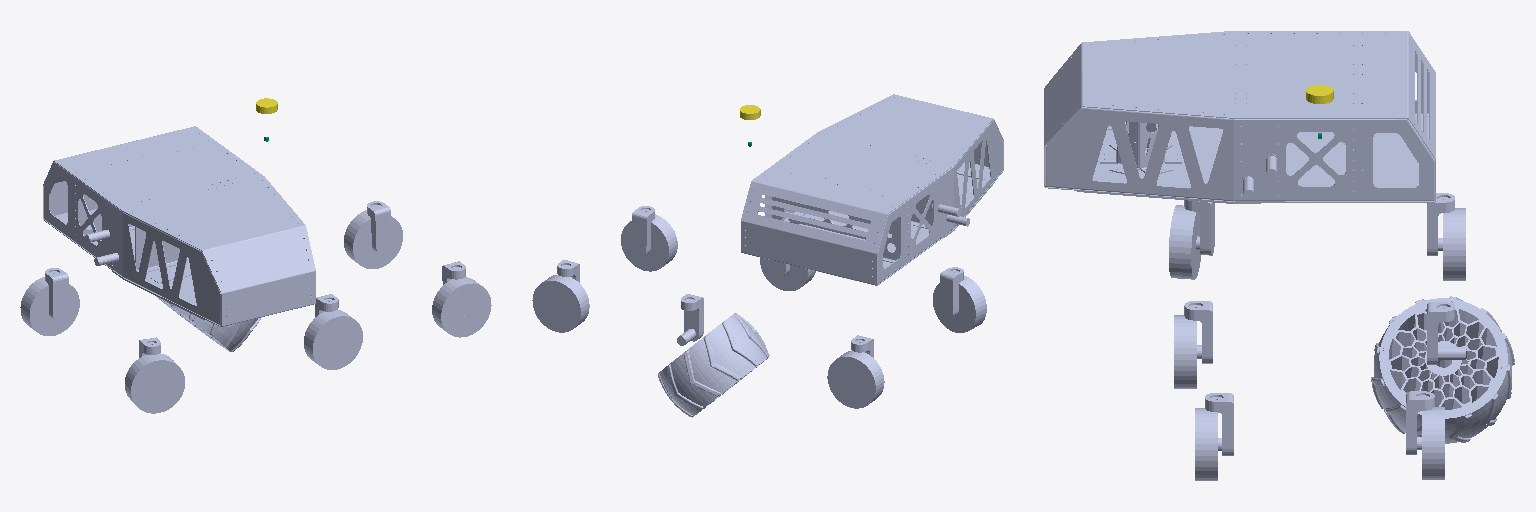
URDF robot description (drive):
<?xml version="1.0" encoding="utf-8"?>
<robot
  name="drive">

  <link name="dummy_link" />
  <joint name="dummy_joint" type="fixed">
    <parent link="dummy_link"/>
    <child link="base_link"/>
  </joint>

  <link
    name="base_link">
    <inertial>
      <origin
        xyz="-0.00633939315398788 0.0616933491123311 0.000102079258242889"
        rpy="0 0 0" />
      <mass
        value="12.6951056650873" />
      <inertia
        ixx="0.261385831219974"
        ixy="0.00262186748821054"
        ixz="1.30796658267419E-16"
        iyy="0.843984730617937"
        iyz="-7.51563399887942E-17"
        izz="0.664911927857951" />
    </inertial>
    <visual>
      <origin
        xyz="0 0 0"
        rpy="0 0 0" />
      <geometry>
        <mesh
          filename="package://drive/meshes/base.STL" />
      </geometry>
      <material
        name="">
        <color
          rgba="0.792156862745098 0.819607843137255 0.933333333333333 1" />
      </material>
    </visual>
    <collision>
      <origin
        xyz="0 0 0"
        rpy="0 0 0" />
      <geometry>
        <mesh
          filename="package://drive/meshes/base.STL" />
      </geometry>
    </collision>
  </link>

<!-- IMU Sensor -->
  <link name="imu_link">
    <inertial>
      <mass value="0.01"/>
      <origin xyz="0 0 0" rpy="0 0 0"/>
      <inertia ixx="1e-5" ixy="0.0" ixz="0.0" iyy="1e-5" iyz="0.0" izz="1e-5"/>
    </inertial>
    <visual>
      <geometry>
        <box size="0.01 0.01 0.01"/>
      </geometry>
    </visual>
    <collision>
      <geometry>
        <box size="0.01 0.01 0.01"/>
      </geometry>
    </collision>
  </link>
  <joint name="imu_joint" type="fixed">
    <parent link="base_link"/>
    <child link="imu_link"/>
    <origin xyz="0 0 0.1" rpy="0 0 0"/>
  </joint>
  <gazebo reference="imu_link">
    <sensor name="imu_sensor" type="imu">
      <pose>0 0 0 0 0 0</pose>
      <update_rate>50</update_rate>
      <always_on>true</always_on>
      <visualize>true</visualize>
      <topic>/imu/data</topic>
      <imu>
        <noise>
          <type>gaussian</type>
          <mean>0.0</mean>
          <stddev>0.0002</stddev>
        </noise>
      </imu>
      <plugin filename="libignition-gazebo-imu-system.so"
        name="ignition::gazebo::systems::Imu">
        <topic>/imu</topic>
      </plugin>
    </sensor>
  </gazebo>

<!-- LiDAR Sensor -->
<link name="lidar_link">
    <inertial>
      <mass value="0.01"/>
      <origin xyz="0 0 0" rpy="0 0 0"/>
      <inertia ixx="1e-5" ixy="0.0" ixz="0.0" iyy="1e-5" iyz="0.0" izz="1e-5"/>
    </inertial>
    <visual>
      <geometry>
        <cylinder radius="0.03" length="0.02"/>
      </geometry>
    </visual>
    <collision>
      <geometry>
        <cylinder radius="0.03" length="0.02"/>
      </geometry>
    </collision>
  </link>
  <joint name="lidar_joint" type="fixed">
    <parent link="base_link"/>
    <child link="lidar_link"/>
    <origin xyz="0 0 0.2" rpy="0 0 0"/>
  </joint>
  <gazebo reference="lidar_link">
    <sensor name='lidar' type='gpu_lidar'>
      <pose>0 0 0 0 0 0</pose>
      <topic>/lidar</topic>
      <update_rate>10</update_rate>
      <ray>
        <scan>
          <horizontal>
            <samples>640</samples>
            <resolution>1</resolution>
            <min_angle>-1.396263</min_angle>
            <max_angle>1.396263</max_angle>
          </horizontal>
          <vertical>
            <samples>1</samples>
            <resolution>0.01</resolution>
            <min_angle>0</min_angle>
            <max_angle>0</max_angle>
          </vertical>
        </scan>
        <range>
          <min>0.08</min>
          <max>10.0</max>
          <resolution>0.01</resolution>
        </range>
      </ray>
      <always_on>1</always_on>
      <visualize>true</visualize>
    </sensor>
  </gazebo>

<!-- Wheel and Suspension Joints -->

  <link
    name="rotate_1">
    <inertial>
      <origin
        xyz="0.0129852901860572 -3.33066907387547E-16 0.0662521834916939"
        rpy="0 0 0" />
      <mass
        value="0.245029467362339" />
      <inertia
        ixx="0.000481938208354005"
        ixy="6.09863722023096E-20"
        ixz="2.30185129071682E-05"
        iyy="0.000539038649100082"
        iyz="2.21738135307142E-18"
        izz="0.000142438687060036" />
    </inertial>
    <visual>
      <origin
        xyz="0 0 0"
        rpy="0 0 0" />
      <geometry>
        <mesh
          filename="package://drive/meshes/rotate_1.STL" />
      </geometry>
      <material
        name="">
        <color
          rgba="0.792156862745098 0.819607843137255 0.933333333333333 1" />
      </material>
    </visual>
    <collision>
      <origin
        xyz="0 0 0"
        rpy="0 0 0" />
      <geometry>
        <mesh
          filename="package://drive/meshes/rotate_1.STL" />
      </geometry>
    </collision>
  </link>
  <joint
    name="joint_rotate_1"
    type="continuous">
    <origin
      xyz="-0.52014 -0.27 -0.28767"
      rpy="3.1416 0 1.4079" />
    <parent
      link="base_link" />
    <child
      link="rotate_1" />
    <axis
      xyz="0 0 1" />
    <dynamics damping="0.5" />
  </joint>
  <link
    name="wheel_1">
    <inertial>
      <origin
        xyz="1.66533453693773E-16 -0.022500000000005 -2.27595720048157E-15"
        rpy="0 0 0" />
      <mass
        value="0.969966731795849" />
      <inertia
        ixx="0.00180858380199434"
        ixy="2.43945488809238E-19"
        ixz="-8.30092288309214E-20"
        iyy="0.00321301479907375"
        iyz="-5.2583805365547E-18"
        izz="0.00180858380199434" />
    </inertial>
    <visual>
      <origin
        xyz="0 0 0"
        rpy="0 0 0" />
      <geometry>
        <mesh
          filename="package://drive/meshes/wheel_1.STL" />
      </geometry>
      <material
        name="">
        <color
          rgba="0.792156862745098 0.819607843137255 0.933333333333333 1" />
      </material>
    </visual>
    <collision>
      <origin
        xyz="0 0 0"
        rpy="0 0 0" />
      <geometry>
        <mesh
          filename="package://drive/meshes/wheel_1.STL" />
      </geometry>
      <surface>
    <friction>
      <ode>
        <mu>1.0</mu>               <!-- Static friction -->
        <mu2>1.0</mu2>             <!-- Torsional friction -->
      </ode>
    </friction>
  </surface>
    </collision>
  </link>
  <joint
    name="joint_wheel_1"
    type="continuous">
    <origin
      xyz="0 0 0.1125"
      rpy="3.1416 1.3751 1.5708" />
    <parent
      link="rotate_1" />
    <child
      link="wheel_1" />
    <axis
      xyz="0 1 0" />
  </joint>
  <link
    name="rotate_2">
    <inertial>
      <origin
        xyz="0.0129852901860573 -2.77555756156289E-17 0.0662521834916938"
        rpy="0 0 0" />
      <mass
        value="0.245029467362339" />
      <inertia
        ixx="0.000481938208354005"
        ixy="1.73993035967218E-20"
        ixz="2.30185129071684E-05"
        iyy="0.000539038649100083"
        iyz="6.1814902161024E-20"
        izz="0.000142438687060036" />
    </inertial>
    <visual>
      <origin
        xyz="0 0 0"
        rpy="0 0 0" />
      <geometry>
        <mesh
          filename="package://drive/meshes/rotate_2.STL" />
      </geometry>
      <material
        name="">
        <color
          rgba="0.792156862745098 0.819607843137255 0.933333333333333 1" />
      </material>
    </visual>
    <collision>
      <origin
        xyz="0 0 0"
        rpy="0 0 0" />
      <geometry>
        <mesh
          filename="package://drive/meshes/rotate_2.STL" />
      </geometry>
    </collision>
  </link>
  <joint
    name="joint_rotate_2"
    type="continuous">
    <origin
      xyz="0.042287 -0.27 -0.28767"
      rpy="3.1416 0 1.5708" />
    <parent
      link="base_link" />
    <child
      link="rotate_2" />
    <axis
      xyz="0 0 1" />
    <dynamics damping="0.5" />
  </joint>
  <link
    name="wheel_2">
    <inertial>
      <origin
        xyz="6.10622663543836E-16 -0.0224999999999977 2.33146835171283E-15"
        rpy="0 0 0" />
      <mass
        value="0.969966731795848" />
      <inertia
        ixx="0.00180858380199434"
        ixy="8.12367448979842E-20"
        ixz="5.42101086242752E-20"
        iyy="0.00321301479907375"
        iyz="-3.89466907254394E-21"
        izz="0.00180858380199434" />
    </inertial>
    <visual>
      <origin
        xyz="0 0 0"
        rpy="0 0 0" />
      <geometry>
        <mesh
          filename="package://drive/meshes/wheel_2.STL" />
      </geometry>
      <material
        name="">
        <color
          rgba="0.792156862745098 0.819607843137255 0.933333333333333 1" />
      </material>
    </visual>
    <collision>
      <origin
        xyz="0 0 0"
        rpy="0 0 0" />
      <geometry>
        <mesh
          filename="package://drive/meshes/wheel_2.STL" />
      </geometry>
      <surface>
    <friction>
      <ode>
        <mu>1.0</mu>               <!-- Static friction -->
        <mu2>1.0</mu2>             <!-- Torsional friction -->
      </ode>
    </friction>
  </surface>
    </collision>
  </link>
  <joint
    name="joint_wheel_2"
    type="continuous">
    <origin
      xyz="0 0 0.1125"
      rpy="0 0.1965 -1.5708" />
    <parent
      link="rotate_2" />
    <child
      link="wheel_2" />
    <axis
      xyz="0 1 0" />
  </joint>
  <link
    name="rotate_3">
    <inertial>
      <origin
        xyz="0.0129852911708224 0 0.0661603898916331"
        rpy="0 0 0" />
      <mass
        value="0.245029467362339" />
      <inertia
        ixx="0.000481938209039244"
        ixy="-1.27054956729403E-20"
        ixz="2.30185078538831E-05"
        iyy="0.000539038649100082"
        iyz="-1.96935160142067E-19"
        izz="0.000142438686374797" />
    </inertial>
    <visual>
      <origin
        xyz="0 0 0"
        rpy="0 0 0" />
      <geometry>
        <mesh
          filename="package://drive/meshes/rotate_3.STL" />
      </geometry>
      <material
        name="">
        <color
          rgba="0.792156862745098 0.819607843137255 0.933333333333333 1" />
      </material>
    </visual>
    <collision>
      <origin
        xyz="0 0 0"
        rpy="0 0 0" />
      <geometry>
        <mesh
          filename="package://drive/meshes/rotate_3.STL" />
      </geometry>
    </collision>
  </link>
  <joint
    name="joint_rotate_3"
    type="continuous">
    <origin
      xyz="0.47299 -0.225 -0.30799"
      rpy="3.1158 0 1.5708" />
    <parent
      link="base_link" />
    <child
      link="rotate_3" />
    <axis
      xyz="0 0 1" />
    <dynamics damping="0.5" />
  </joint>
  <link
    name="wheel_3">
    <inertial>
      <origin
        xyz="-1.55431223447522E-15 0.0224999999999991 1.55431223447522E-15"
        rpy="0 0 0" />
      <mass
        value="0.969966731795848" />
      <inertia
        ixx="0.00180858380199434"
        ixy="-2.26611196637238E-19"
        ixz="0"
        iyy="0.00321301479907375"
        iyz="-1.86470415833723E-19"
        izz="0.00180858380199434" />
    </inertial>
    <visual>
      <origin
        xyz="0 0 0"
        rpy="0 0 0" />
      <geometry>
        <mesh
          filename="package://drive/meshes/wheel_3.STL" />
      </geometry>
      <material
        name="">
        <color
          rgba="0.792156862745098 0.819607843137255 0.933333333333333 1" />
      </material>
    </visual>
    <collision>
      <origin
        xyz="0 0 0"
        rpy="0 0 0" />
      <geometry>
        <mesh
          filename="package://drive/meshes/wheel_3.STL" />
      </geometry>
      <surface>
    <friction>
      <ode>
        <mu>1.0</mu>               <!-- Static friction -->
        <mu2>1.0</mu2>             <!-- Torsional friction -->
      </ode>
    </friction>
  </surface>
    </collision>
  </link>
  <joint
    name="joint_wheel_3"
    type="continuous">
    <origin
      xyz="0 0 0.11241"
      rpy="0 0.67825 1.5708" />
    <parent
      link="rotate_3" />
    <child
      link="wheel_3" />
    <axis
      xyz="0 1 0" />
  </joint>
  <link
    name="rotate_4">
    <inertial>
      <origin
        xyz="0.0129852901860573 0 0.066252183491694"
        rpy="0 0 0" />
      <mass
        value="0.245029467362338" />
      <inertia
        ixx="0.000481938208354005"
        ixy="-2.55972847915331E-20"
        ixz="2.30185129071678E-05"
        iyy="0.000539038649100082"
        iyz="1.97509895186831E-20"
        izz="0.000142438687060036" />
    </inertial>
    <visual>
      <origin
        xyz="0 0 0"
        rpy="0 0 0" />
      <geometry>
        <mesh
          filename="package://drive/meshes/rotate_4.STL" />
      </geometry>
      <material
        name="">
        <color
          rgba="0.792156862745098 0.819607843137255 0.933333333333333 1" />
      </material>
    </visual>
    <collision>
      <origin
        xyz="0 0 0"
        rpy="0 0 0" />
      <geometry>
        <mesh
          filename="package://drive/meshes/rotate_4.STL" />
      </geometry>
    </collision>
  </link>
  <joint
    name="joint_rotate_4"
    type="continuous">
    <origin
      xyz="-0.51862 0.27 -0.29051"
      rpy="3.1416 0 -1.5708" />
    <parent
      link="base_link" />
    <child
      link="rotate_4" />
    <axis
      xyz="0 0 1" />
    <dynamics damping="0.5" />
  </joint>
  <link
    name="wheel_4">
    <inertial>
      <origin
        xyz="-4.44089209850063E-15 -0.0225000000000017 1.33226762955019E-15"
        rpy="0 0 0" />
      <mass
        value="0.969966731795849" />
      <inertia
        ixx="0.00180858380199434"
        ixy="-4.14417867789944E-19"
        ixz="1.62630325872826E-19"
        iyy="0.00321301479907375"
        iyz="-4.97621623879598E-20"
        izz="0.00180858380199434" />
    </inertial>
    <visual>
      <origin
        xyz="0 0 0"
        rpy="0 0 0" />
      <geometry>
        <mesh
          filename="package://drive/meshes/wheel_4.STL" />
      </geometry>
      <material
        name="">
        <color
          rgba="0.792156862745098 0.819607843137255 0.933333333333333 1" />
      </material>
    </visual>
    <collision>
      <origin
        xyz="0 0 0"
        rpy="0 0 0" />
      <geometry>
        <mesh
          filename="package://drive/meshes/wheel_4.STL" />
      </geometry>
      <surface>
    <friction>
      <ode>
        <mu>1.0</mu>               <!-- Static friction -->
        <mu2>1.0</mu2>             <!-- Torsional friction -->
      </ode>
    </friction>
  </surface>
    </collision>
  </link>
  <joint
    name="joint_wheel_4"
    type="continuous">
    <origin
      xyz="0 0 0.1125"
      rpy="0 0.6986 -1.5708" />
    <parent
      link="rotate_4" />
    <child
      link="wheel_4" />
    <axis
      xyz="0 1 0" />
  </joint>
  <link
    name="rotate_5">
    <inertial>
      <origin
        xyz="0.0129852891007726 0.0414537955768247 0.0516810862683573"
        rpy="0 0 0" />
      <mass
        value="0.245029467362338" />
      <inertia
        ixx="0.000481938207599867"
        ixy="1.44026196203906E-05"
        ixz="1.79559667118559E-05"
        iyy="0.000383771035147503"
        iyz="-0.000193574527611515"
        izz="0.000297706301766753" />
    </inertial>
    <visual>
      <origin
        xyz="0 0 0"
        rpy="0 0 0" />
      <geometry>
        <mesh
          filename="package://drive/meshes/rotate_5.STL" />
      </geometry>
      <material
        name="">
        <color
          rgba="0.792156862745098 0.819607843137255 0.933333333333333 1" />
      </material>
    </visual>
    <collision>
      <origin
        xyz="0 0 0"
        rpy="0 0 0" />
      <geometry>
        <mesh
          filename="package://drive/meshes/rotate_5.STL" />
      </geometry>
    </collision>
  </link>
  <joint
    name="joint_rotate_5"
    type="continuous">
    <origin
      xyz="0.0438 0.27 -0.29051"
      rpy="-2.4656 0 -1.5708" />
    <parent
      link="base_link" />
    <child
      link="rotate_5" />
    <axis
      xyz="0 0.6257 0.78007" />
    <dynamics damping="0.5" />
  </joint>
  <link
    name="wheel_5">
    <inertial>
      <origin
        xyz="-1.36002320516582E-15 -0.0224999999999973 3.10862446895044E-15"
        rpy="0 0 0" />
      <mass
        value="0.969966731795849" />
      <inertia
        ixx="0.00180858380199434"
        ixy="-5.99349909370434E-20"
        ixz="-2.71050543121376E-19"
        iyy="0.00321301479907375"
        iyz="-2.00709648585059E-20"
        izz="0.00180858380199434" />
    </inertial>
    <visual>
      <origin
        xyz="0 0 0"
        rpy="0 0 0" />
      <geometry>
        <mesh
          filename="package://drive/meshes/wheel_5.STL" />
      </geometry>
      <material
        name="">
        <color
          rgba="0.792156862745098 0.819607843137255 0.933333333333333 1" />
      </material>
    </visual>
    <collision>
      <origin
        xyz="0 0 0"
        rpy="0 0 0" />
      <geometry>
        <mesh
          filename="package://drive/meshes/wheel_5.STL" />
      </geometry>
      <surface>
    <friction>
      <ode>
        <mu>1.0</mu>               <!-- Static friction -->
        <mu2>1.0</mu2>             <!-- Torsional friction -->
      </ode>
    </friction>
  </surface>
    </collision>
  </link>
  <joint
    name="joint_wheel_5"
    type="continuous">
    <origin
      xyz="0 0.070391 0.087757"
      rpy="0 0.025369 -1.5708" />
    <parent
      link="rotate_5" />
    <child
      link="wheel_5" />
    <axis
      xyz="0 1 0" />
  </joint>
  <link
    name="rotate_6">
    <inertial>
      <origin
        xyz="0.0129852901860573 -0.00495697071227941 0.0658721019855867"
        rpy="0 0 0" />
      <mass
        value="0.245029467362338" />
      <inertia
        ixx="0.000481938208354005"
        ixy="-1.72729257204923E-06"
        ixz="2.2953614025421E-05"
        iyy="0.000536805437098067"
        iyz="2.96766669183116E-05"
        izz="0.000144671899062051" />
    </inertial>
    <visual>
      <origin
        xyz="0 0 0"
        rpy="0 0 0" />
      <geometry>
        <mesh
          filename="package://drive/meshes/rotate_6.STL" />
      </geometry>
      <material
        name="">
        <color
          rgba="0.792156862745098 0.819607843137255 0.933333333333333 1" />
      </material>
    </visual>
    <collision>
      <origin
        xyz="0 0 0"
        rpy="0 0 0" />
      <geometry>
        <mesh
          filename="package://drive/meshes/rotate_6.STL" />
      </geometry>
    </collision>
  </link>
  <joint
    name="joint_rotate_6"
    type="continuous">
    <origin
      xyz="0.47715 0.225 -0.30253"
      rpy="3.104 0 -1.5708" />
    <parent
      link="base_link" />
    <child
      link="rotate_6" />
    <axis
      xyz="0 0.075039 -0.99718" />
    <dynamics damping="0.5" />
  </joint>
  <link
    name="wheel_6">
    <inertial>
      <origin
        xyz="3.33066907387547E-16 0.0225000000000001 -4.44089209850063E-16"
        rpy="0 0 0" />
      <mass
        value="0.969966731795848" />
      <inertia
        ixx="0.00180858380199434"
        ixy="3.0705280164728E-22"
        ixz="0"
        iyy="0.00321301479907375"
        iyz="7.62956439962978E-21"
        izz="0.00180858380199434" />
    </inertial>
    <visual>
      <origin
        xyz="0 0 0"
        rpy="0 0 0" />
      <geometry>
        <mesh
          filename="package://drive/meshes/wheel_6.STL" />
      </geometry>
      <material
        name="">
        <color
          rgba="0.792156862745098 0.819607843137255 0.933333333333333 1" />
      </material>
    </visual>
    <collision>
      <origin
        xyz="0 0 0"
        rpy="0 0 0" />
      <geometry>
        <mesh
          filename="package://drive/meshes/wheel_6.STL" />
      </geometry>
      <surface>
    <friction>
      <ode>
        <mu>1.0</mu>               <!-- Static friction -->
        <mu2>1.0</mu2>             <!-- Torsional friction -->
      </ode>
    </friction>
  </surface>
    </collision>
  </link>
  <joint
    name="joint_wheel_6"
    type="continuous">
    <origin
      xyz="0 -0.0084274 0.11199"
      rpy="3.1416 -0.69655 -1.5708" />
    <parent
      link="rotate_6" />
    <child
      link="wheel_6" />
    <axis
      xyz="0 1 0" />
  </joint>
  
  <!-- ROS2 Control -->
  <ros2_control name="rover_system" type="system">
    <hardware>
      <plugin>gz_ros2_control/GazeboSimSystem</plugin>
    </hardware>
    
    <!-- Wheel Joints -->
    <joint name="joint_wheel_1">
      <command_interface name="velocity"/>
      <state_interface name="position"/>
      <state_interface name="velocity"/>
    </joint>
    <joint name="joint_wheel_2">
      <command_interface name="velocity"/>
      <state_interface name="position"/>
      <state_interface name="velocity"/>
    </joint>
    <joint name="joint_wheel_3">
      <command_interface name="velocity"/>
      <state_interface name="position"/>
      <state_interface name="velocity"/>
    </joint>
    <joint name="joint_wheel_4">
      <command_interface name="velocity"/>
      <state_interface name="position"/>
      <state_interface name="velocity"/>
    </joint>
    <joint name="joint_wheel_5">
      <command_interface name="velocity"/>
      <state_interface name="position"/>
      <state_interface name="velocity"/>
    </joint>
    <joint name="joint_wheel_6">
      <command_interface name="velocity"/>
      <state_interface name="position"/>
      <state_interface name="velocity"/>
    </joint>
    
    <!-- Steering Joints -->
    <joint name="joint_rotate_1">
      <command_interface name="position"/>
      <state_interface name="position"/>
      <state_interface name="velocity"/>
    </joint>
    <joint name="joint_rotate_2">
      <command_interface name="position"/>
      <state_interface name="position"/>
      <state_interface name="velocity"/>
    </joint>
    <joint name="joint_rotate_3">
      <command_interface name="position"/>
      <state_interface name="position"/>
      <state_interface name="velocity"/>
    </joint>
    <joint name="joint_rotate_4">
      <command_interface name="position"/>
      <state_interface name="position"/>
      <state_interface name="velocity"/>
    </joint>
    <joint name="joint_rotate_5">
      <command_interface name="position"/>
      <state_interface name="position"/>
      <state_interface name="velocity"/>
    </joint>
    <joint name="joint_rotate_6">
      <command_interface name="position"/>
      <state_interface name="position"/>
      <state_interface name="velocity"/>
    </joint>
  </ros2_control>

  <!-- Gazebo plugins -->
  <gazebo>
    <!-- ROS2 Control Plugin -->
    <plugin filename="libgz_ros2_control-system.so" name="gz_ros2_control::GazeboSimROS2ControlPlugin">
      <parameters>[local-path]/nav2_ws/src/drive/models/drive/config/rover_controllers.yaml</parameters>
      <ros>
        <namespace>/</namespace>
      </ros>
    </plugin>

    <!-- Joint State Publisher -->
    <plugin
      filename="libignition-gazebo-joint-state-publisher-system.so"
      name="ignition::gazebo::systems::JointStatePublisher">
      <joint_name>joint_wheel_1</joint_name>
      <joint_name>joint_wheel_2</joint_name>
      <joint_name>joint_wheel_3</joint_name>
      <joint_name>joint_wheel_4</joint_name>
      <joint_name>joint_wheel_5</joint_name>
      <joint_name>joint_wheel_6</joint_name>
      <joint_name>joint_rotate_1</joint_name>
      <joint_name>joint_rotate_2</joint_name>
      <joint_name>joint_rotate_3</joint_name>
      <joint_name>joint_rotate_4</joint_name>
      <joint_name>joint_rotate_5</joint_name>
      <joint_name>joint_rotate_6</joint_name>
    </plugin>
  </gazebo>

</robot>

--- Render facts (derived) ---
3 views of the same robot in one strip: view 1: azimuth 30°, elevation 25°; view 2: azimuth 150°, elevation 25°; view 3: azimuth 270°, elevation 25° (orthographic).
Robot: drive — 16 links, 15 joints (12 continuous, 3 fixed); root link dummy_link; default pose: all joints at 0.
Links seen in each view (by area): view 1: base_link, wheel_1, wheel_3, wheel_2, wheel_4, wheel_6, wheel_5, rotate_6, rotate_4; view 2: base_link, wheel_5, wheel_6, wheel_4, wheel_3, wheel_1, rotate_5, rotate_3, rotate_1, wheel_2; view 3: base_link, wheel_5, wheel_1, wheel_2, wheel_6, wheel_3, wheel_4, rotate_5, rotate_3, rotate_6, rotate_2, rotate_1 (+1 smaller).
Boxes of the visible links, x1,y1,x2,y2 form: base_link: (43, 126, 315, 326); wheel_1: (125, 353, 184, 413); wheel_3: (432, 277, 491, 337); wheel_2: (304, 310, 362, 369); wheel_4: (20, 277, 79, 335); wheel_6: (344, 210, 402, 268); wheel_5: (156, 296, 261, 351); rotate_6: (367, 201, 391, 254); rotate_4: (45, 268, 68, 321); base_link: (741, 94, 1003, 285); wheel_5: (658, 313, 769, 417); wheel_6: (532, 275, 589, 332); wheel_4: (827, 351, 884, 408); wheel_3: (621, 214, 677, 271); wheel_1: (933, 276, 986, 332); rotate_5: (677, 294, 703, 345); rotate_3: (631, 206, 654, 257); rotate_1: (940, 267, 963, 318); wheel_2: (760, 258, 815, 290); base_link: (1044, 31, 1435, 203); wheel_5: (1371, 296, 1514, 443); wheel_1: (1169, 205, 1200, 279); wheel_2: (1174, 315, 1196, 388); wheel_6: (1422, 407, 1444, 479); wheel_3: (1195, 408, 1217, 480); wheel_4: (1443, 208, 1465, 280); rotate_5: (1427, 302, 1465, 364); rotate_3: (1205, 393, 1233, 455); rotate_6: (1406, 391, 1434, 454); rotate_2: (1184, 301, 1212, 363); rotate_1: (1184, 200, 1214, 255).
Size in the robot's own frame: 1.19 by 1.03 by 0.8483 metres.
13 mesh visuals loaded from 13 distinct referenced files (13 binary STL).